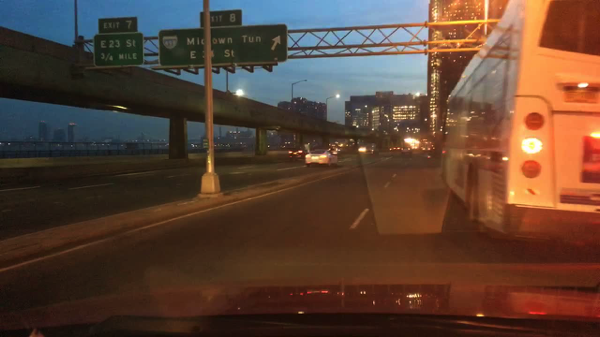bus: (440, 1, 599, 246)
car: (159, 29, 289, 68), (92, 33, 145, 68), (196, 10, 242, 30), (302, 149, 339, 167), (99, 16, 138, 33), (288, 148, 306, 161), (357, 143, 377, 154), (330, 146, 341, 155), (401, 147, 412, 155), (422, 150, 431, 155), (389, 146, 399, 150), (411, 145, 417, 148)
